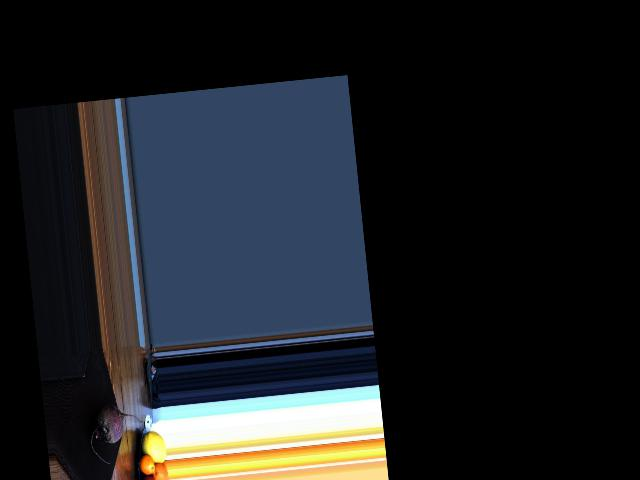beet: (87, 401, 144, 465)
